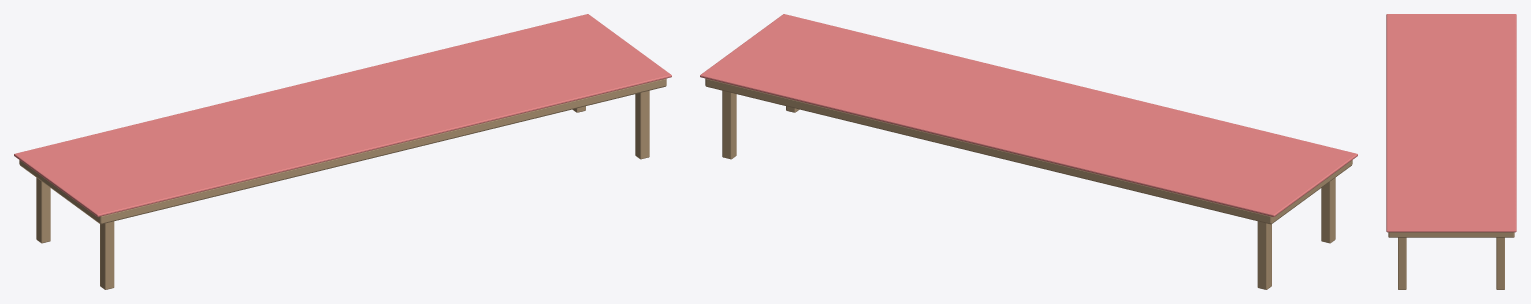
The model's file is table.glb.
3 renders of one model, left to right at view 1: azimuth 30°, elevation 25°; view 2: azimuth 150°, elevation 25°; view 3: azimuth 270°, elevation 25°, orthographic. The views are drawn at different scales.
Visible parts, largest first — view 1: table; view 2: table; view 3: table.
Part boxes in pixels (bbox=[...]): table: bbox=[14, 14, 671, 289]; table: bbox=[700, 14, 1357, 289]; table: bbox=[1386, 14, 1516, 289].
Size of the model in its own units: 7.3 by 1.02 by 1.85.
